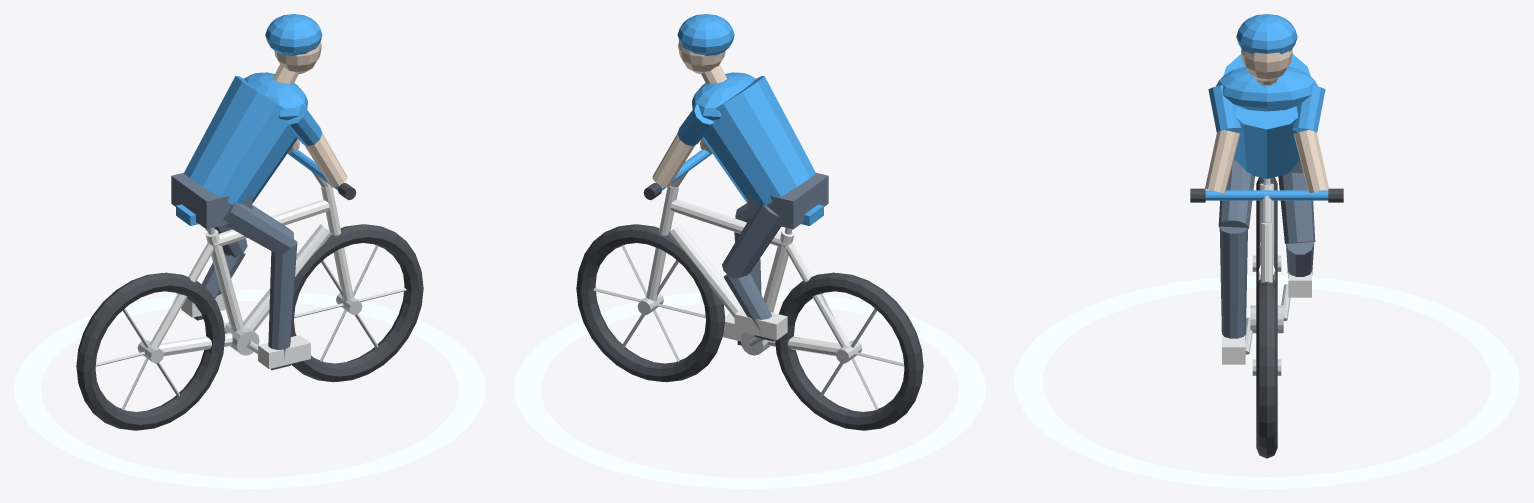
The model's file is bike.glb.
3 renders of one model, left to right at view 1: azimuth 30°, elevation 25°; view 2: azimuth 150°, elevation 25°; view 3: azimuth 270°, elevation 25°, orthographic. The views are drawn at different scales.
Parts seen in each view (by area): view 1: novanav_bike; view 2: novanav_bike; view 3: novanav_bike.
Boxes of the visible parts, x1,y1,x2,y2 form: novanav_bike: [14, 14, 485, 488]; novanav_bike: [514, 14, 985, 488]; novanav_bike: [1014, 14, 1519, 488].
Bounding box in the file's own units: 2.14 × 1.89 × 2.14.
